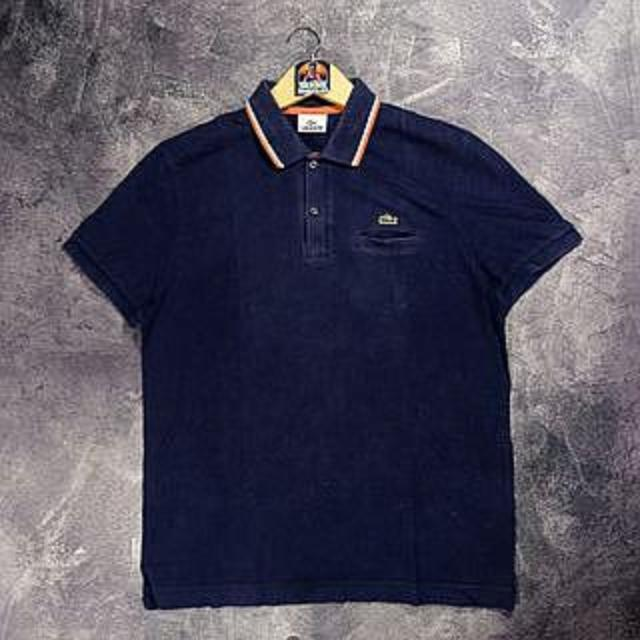T_SHIRT: (38, 54, 588, 618)
